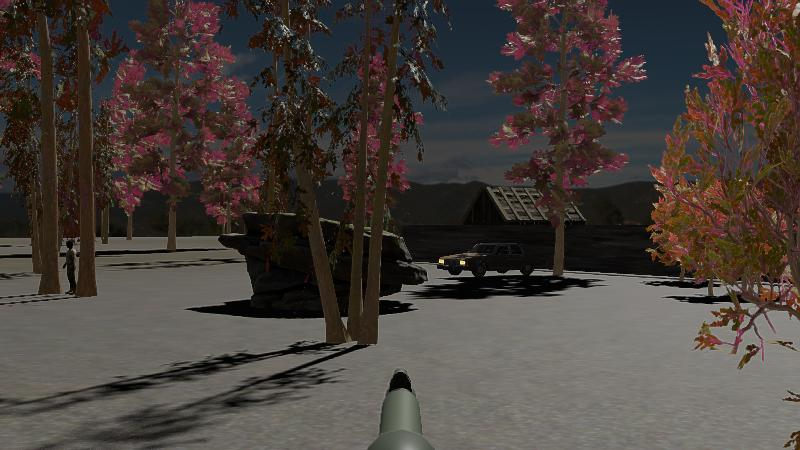House: (457, 179, 558, 274)
car: (437, 239, 537, 279)
